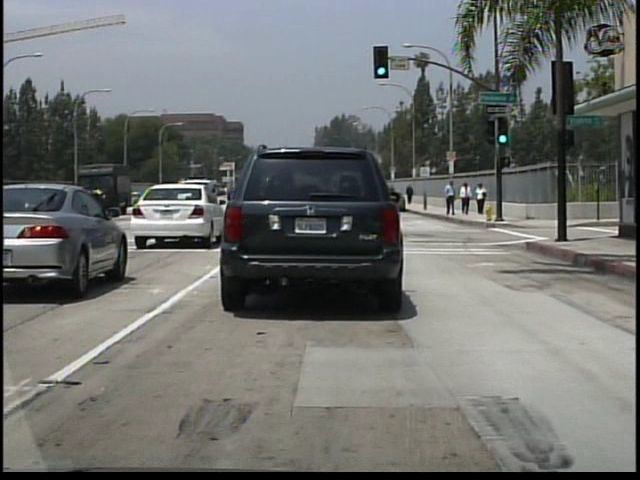person: (444, 178, 458, 218), (458, 181, 472, 216), (475, 181, 488, 215), (405, 183, 415, 205)
